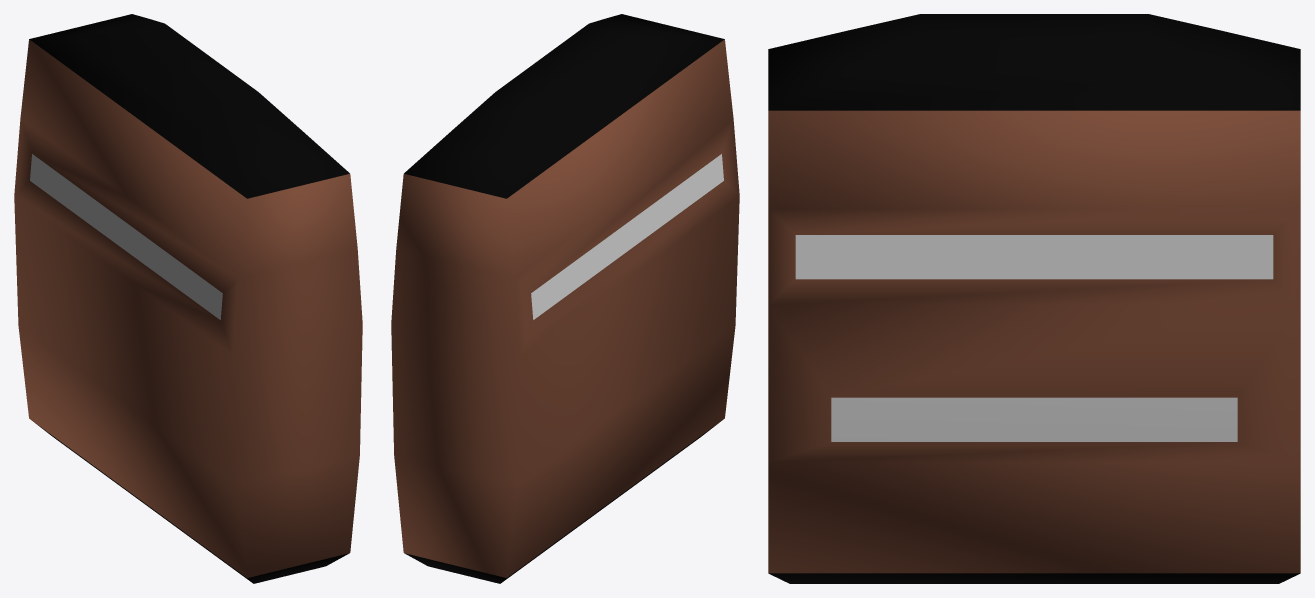
File: bumbu.glb
The picture shows the model from 3 angles, left to right: view 1: azimuth 30°, elevation 25°; view 2: azimuth 150°, elevation 25°; view 3: azimuth 270°, elevation 25°; orthographic projection. The views are drawn at different scales.
Visible parts, largest first — view 1: Cube; view 2: Cube; view 3: Cube.
Boxes of the visible parts, bbox=[...] form: Cube: bbox=[14, 14, 362, 583]; Cube: bbox=[391, 14, 739, 583]; Cube: bbox=[768, 14, 1300, 583].
Size of the model in its own units: 0.069 by 0.2219 by 0.2.
